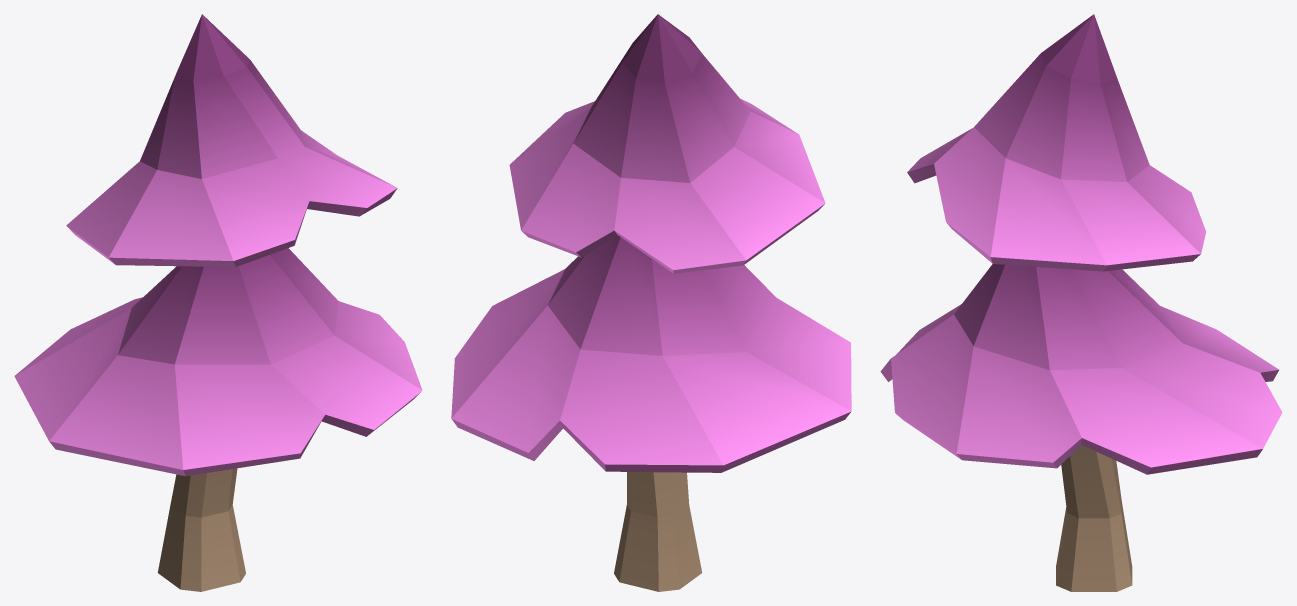
The model's file is SpringPine7.fbx.
3 renders of one model, left to right at view 1: azimuth 30°, elevation 25°; view 2: azimuth 150°, elevation 25°; view 3: azimuth 270°, elevation 25°, orthographic.
Parts seen in each view (by area): view 1: SpringPine7; view 2: SpringPine7; view 3: SpringPine7.
Boxes of the visible parts, box(x1,y1,x2,y2) form: SpringPine7: box(14, 14, 422, 591); SpringPine7: box(451, 14, 851, 591); SpringPine7: box(880, 14, 1282, 591).
Bounding box in the file's own units: 308 × 463 × 300.
